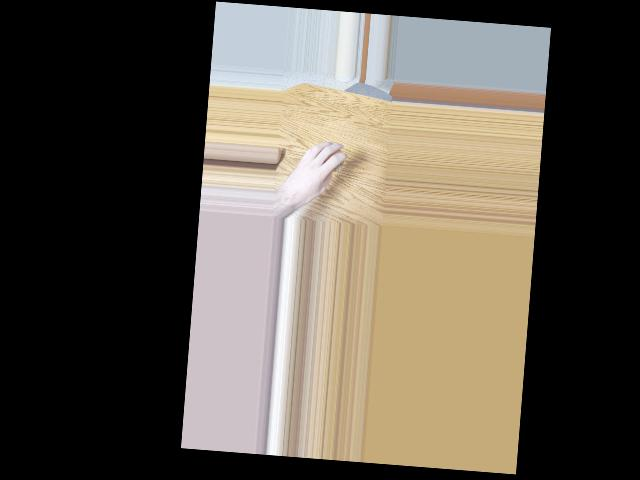onion: (318, 146, 344, 173)
